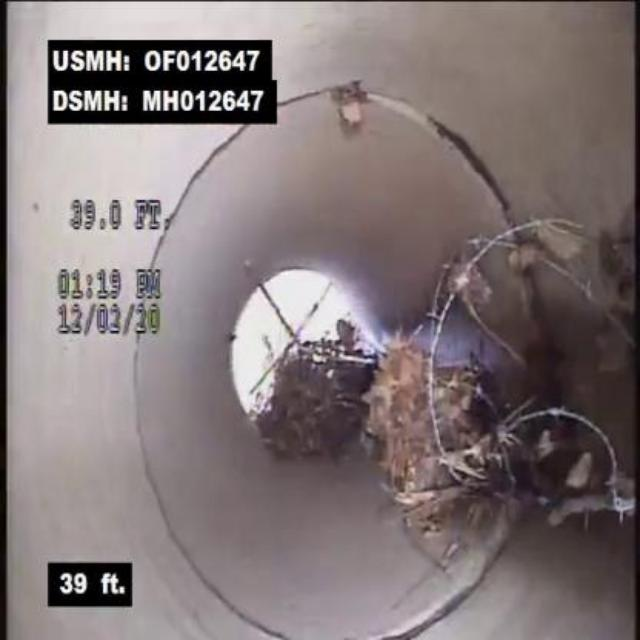Debris: (354, 318, 563, 545)
